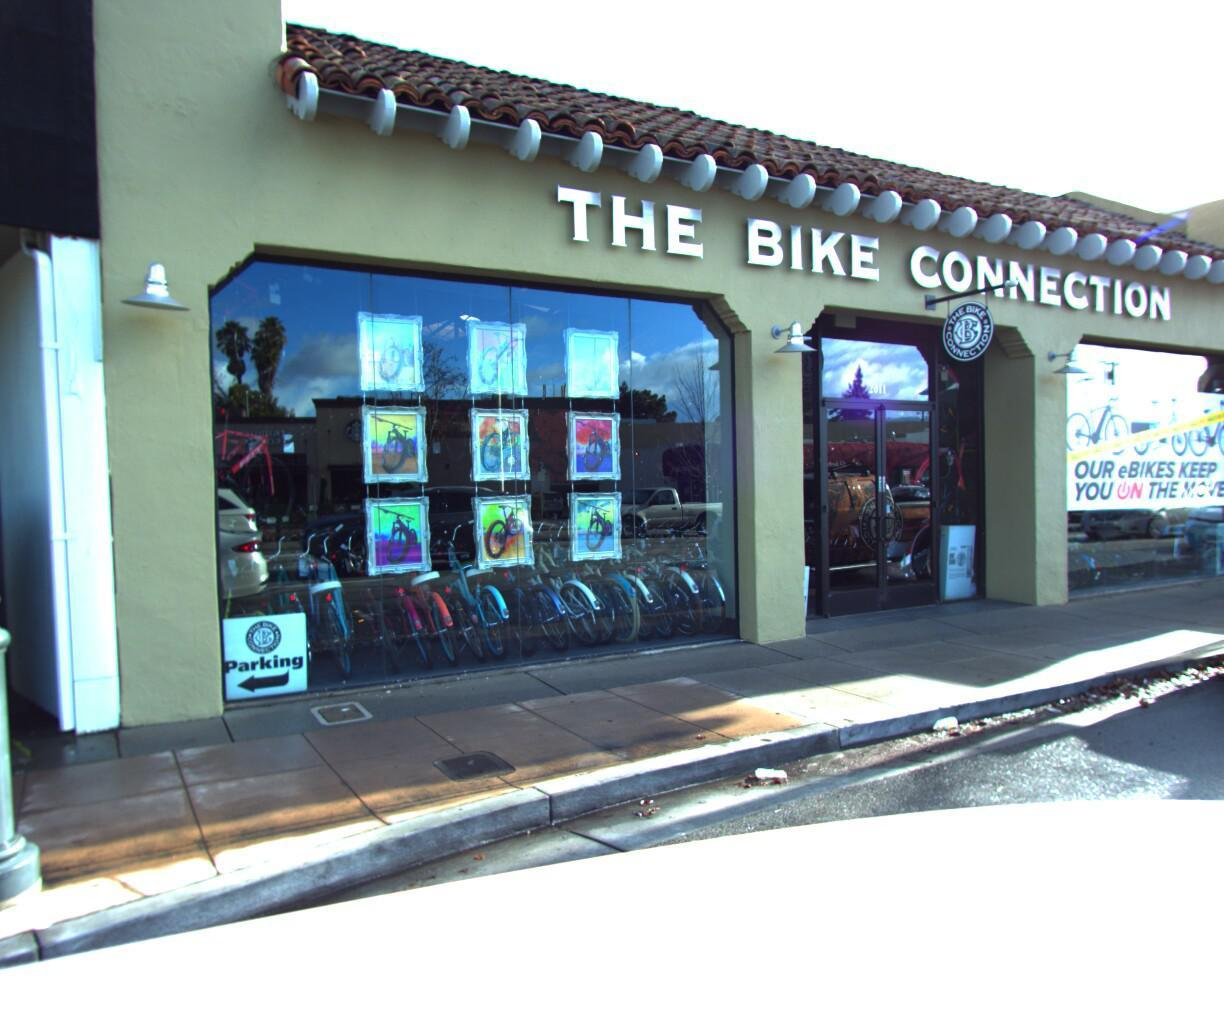car: (1183, 398, 1224, 741)
